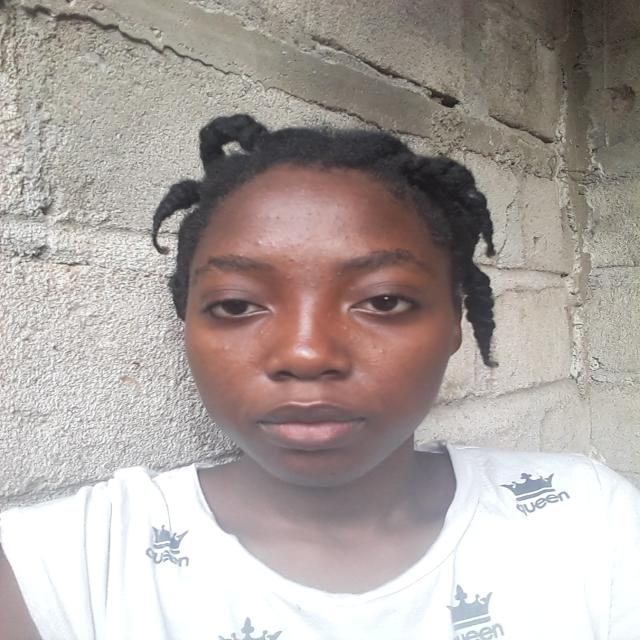Acne: (249, 236, 276, 250), (280, 184, 308, 194), (324, 274, 343, 286), (286, 257, 304, 269), (362, 197, 381, 206), (332, 219, 350, 228), (339, 230, 355, 240), (370, 344, 386, 354), (281, 275, 295, 284), (258, 329, 270, 339), (255, 184, 271, 191), (316, 182, 331, 189), (219, 345, 234, 352), (339, 324, 352, 332), (369, 359, 380, 368), (336, 202, 348, 210), (258, 197, 271, 204), (253, 213, 265, 220), (243, 364, 252, 372), (263, 252, 275, 258), (238, 252, 248, 259), (255, 368, 261, 376), (348, 335, 356, 341), (390, 372, 398, 377), (325, 313, 331, 319)
